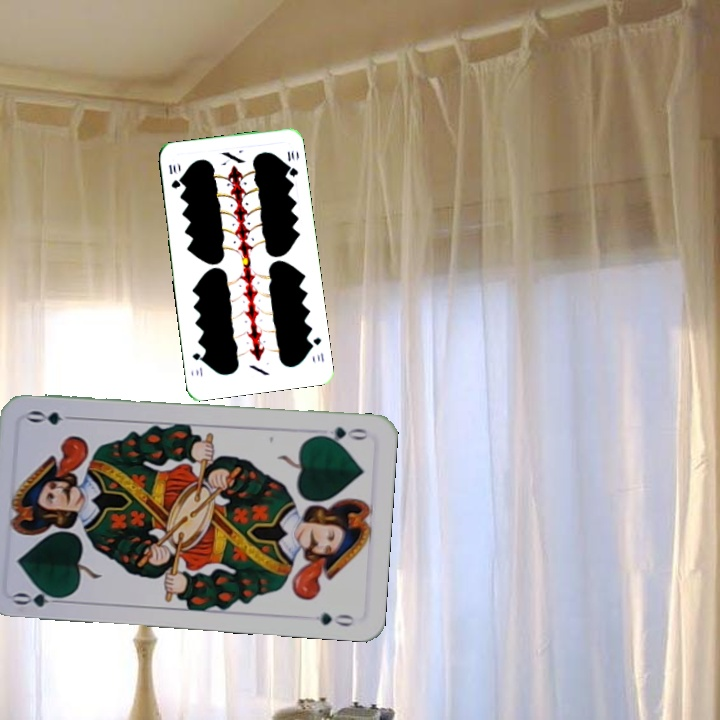G10: (305, 333, 327, 365), (165, 161, 183, 191)
GO: (10, 584, 70, 610), (312, 422, 371, 445)
